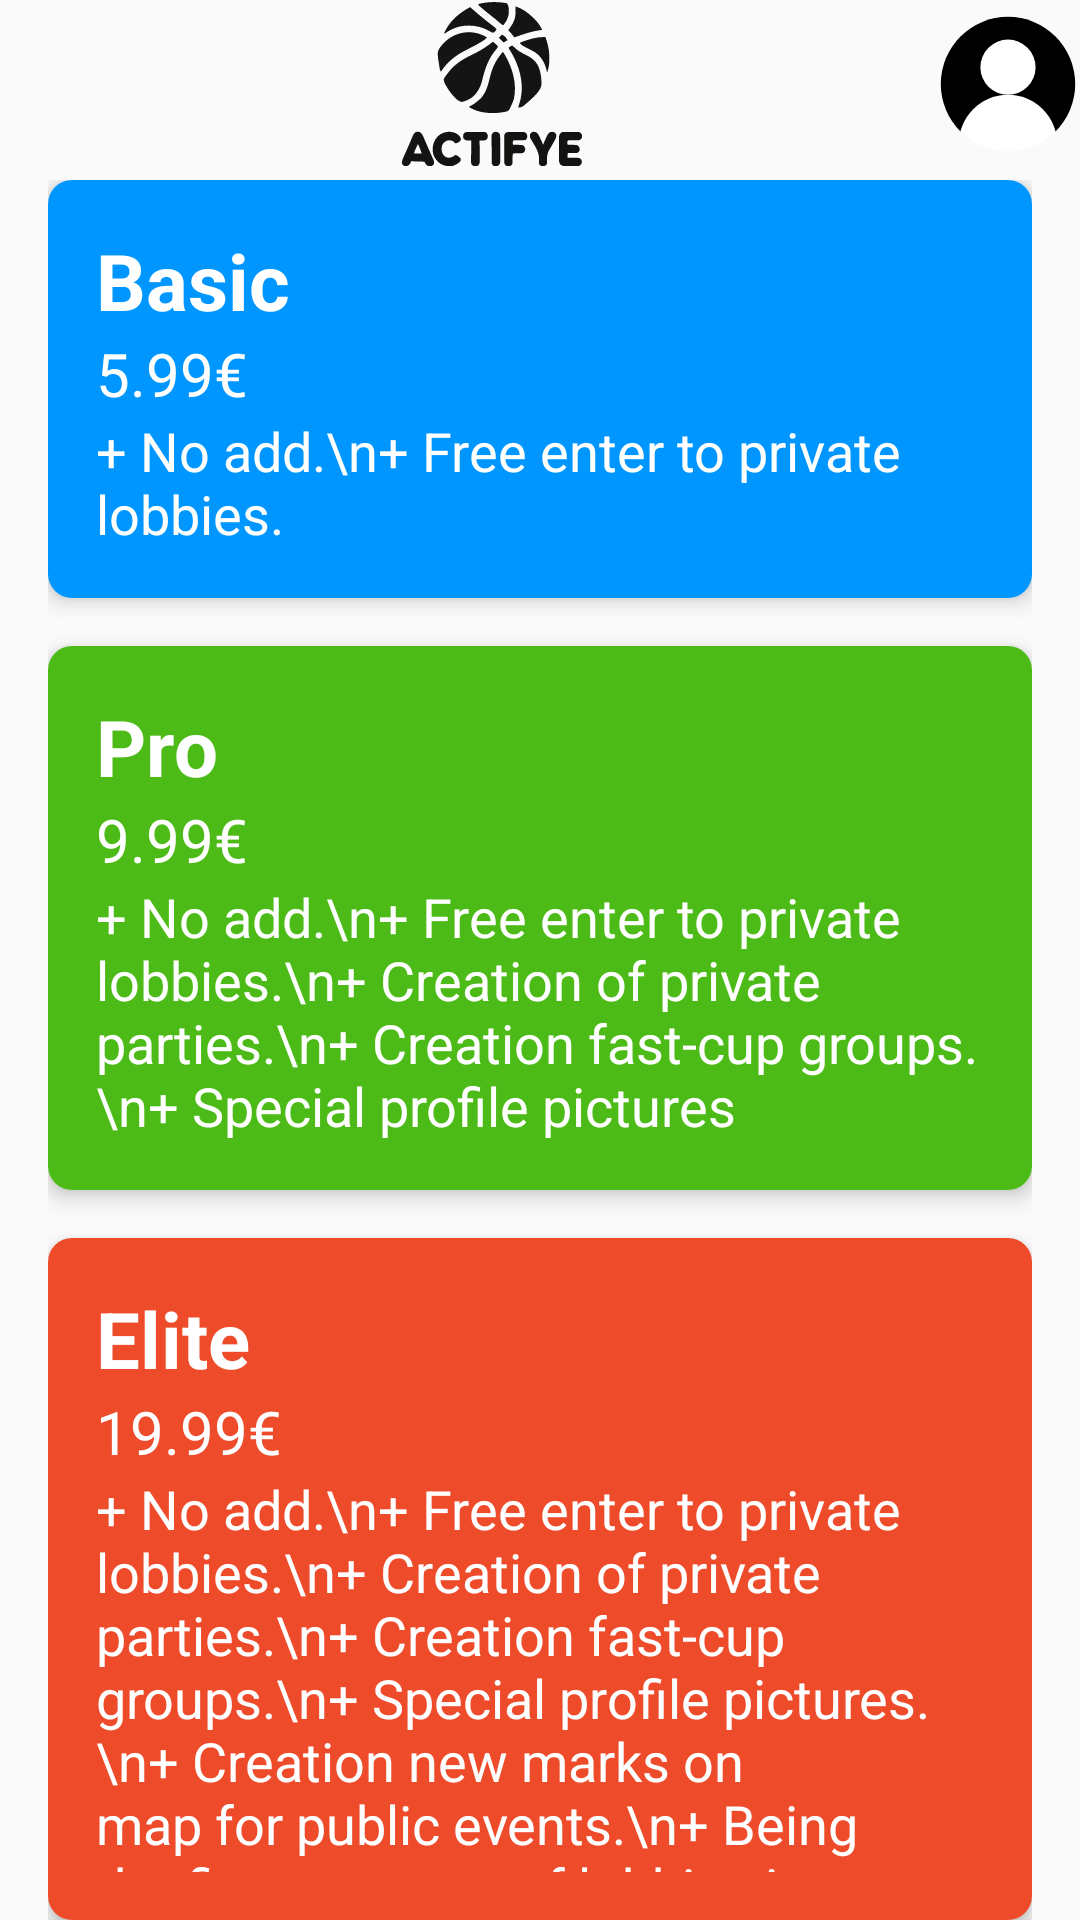

Where icons sit on this 1080×1920 app screen, as (x1, y1, x2, y2):
profile: (940, 16, 1076, 132)
